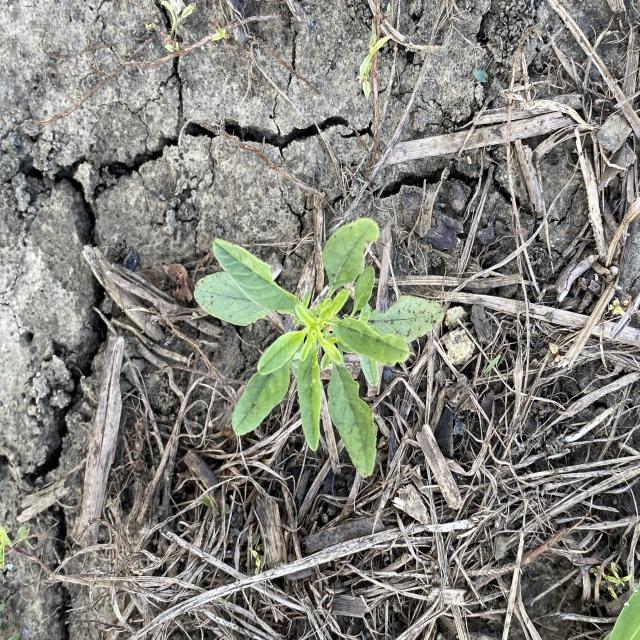Waterhemp: (193, 215, 445, 481)
